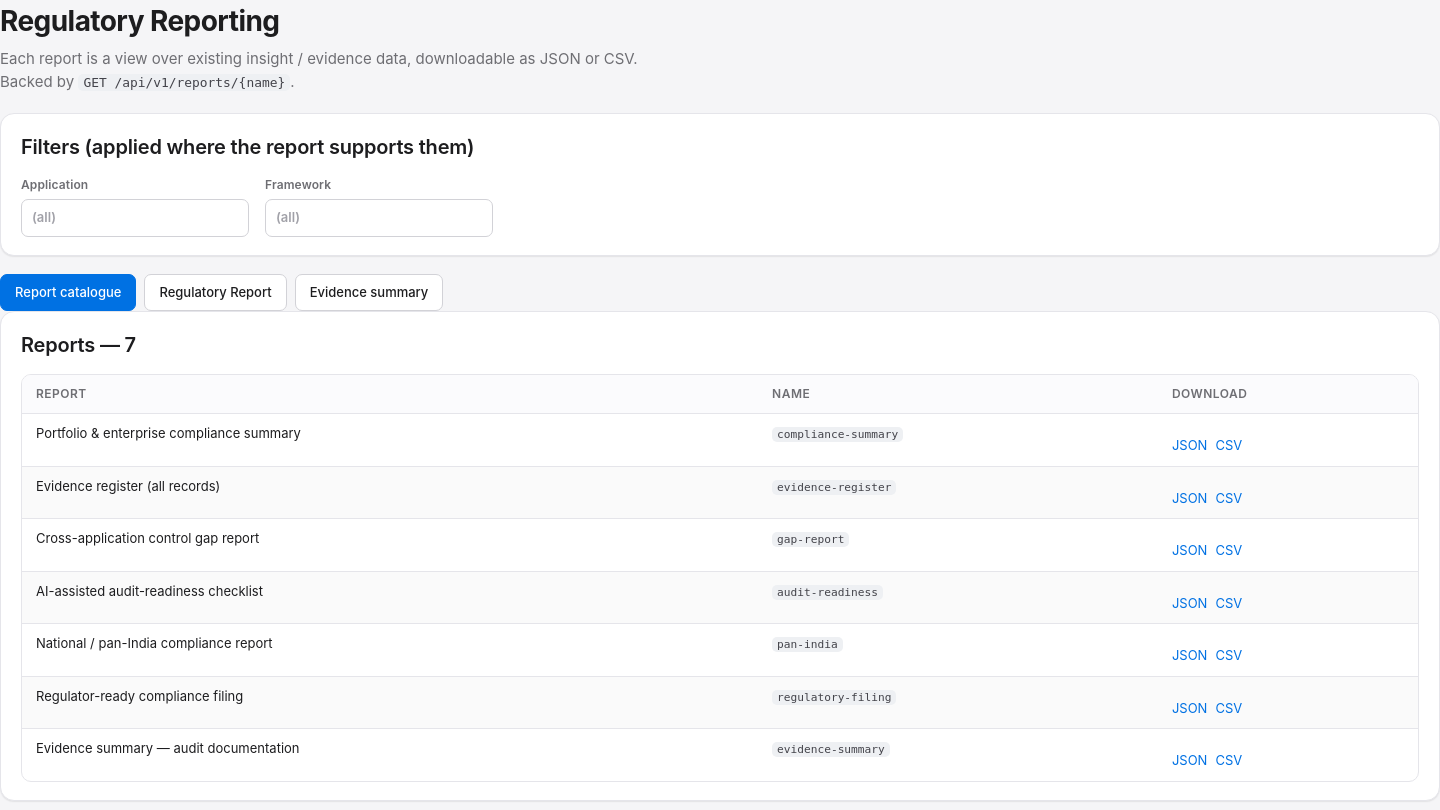
it: Reports — Evidence summary tab › renders totals, controls with text pills, MISSING and FAIL rows, and expandable evidence links (mock)
The width and height of the screenshot is (1440, 810).
What coordinates should you click on to do the following:
click the button "Evidence summary"
I would click on:
 (369, 292)
Its box is [295,274,443,311].
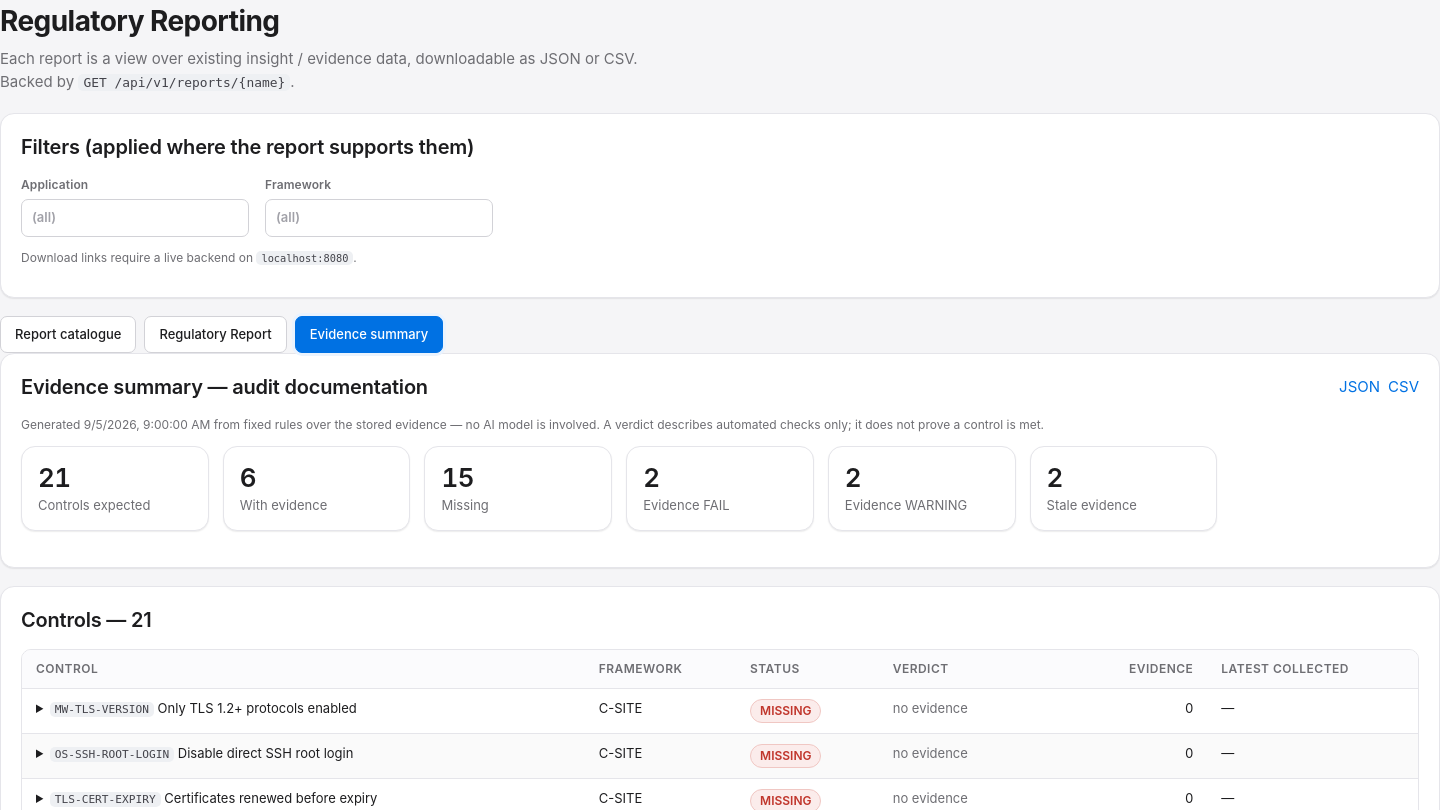
Now the text "Controls expected" is shown, box [38,497,150,513]
Now the text "With evidence" is shown, box [240,497,327,513]
Now the text "Missing" is shown, box [441,497,489,513]
